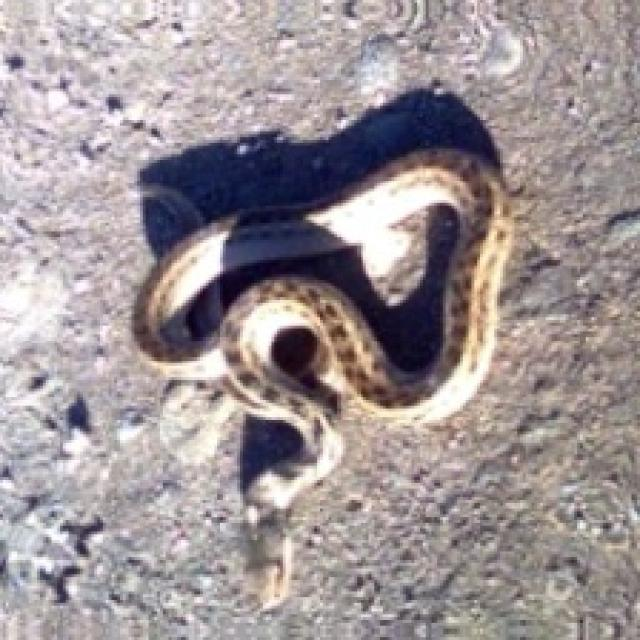boies keelback: (134, 151, 511, 604)
